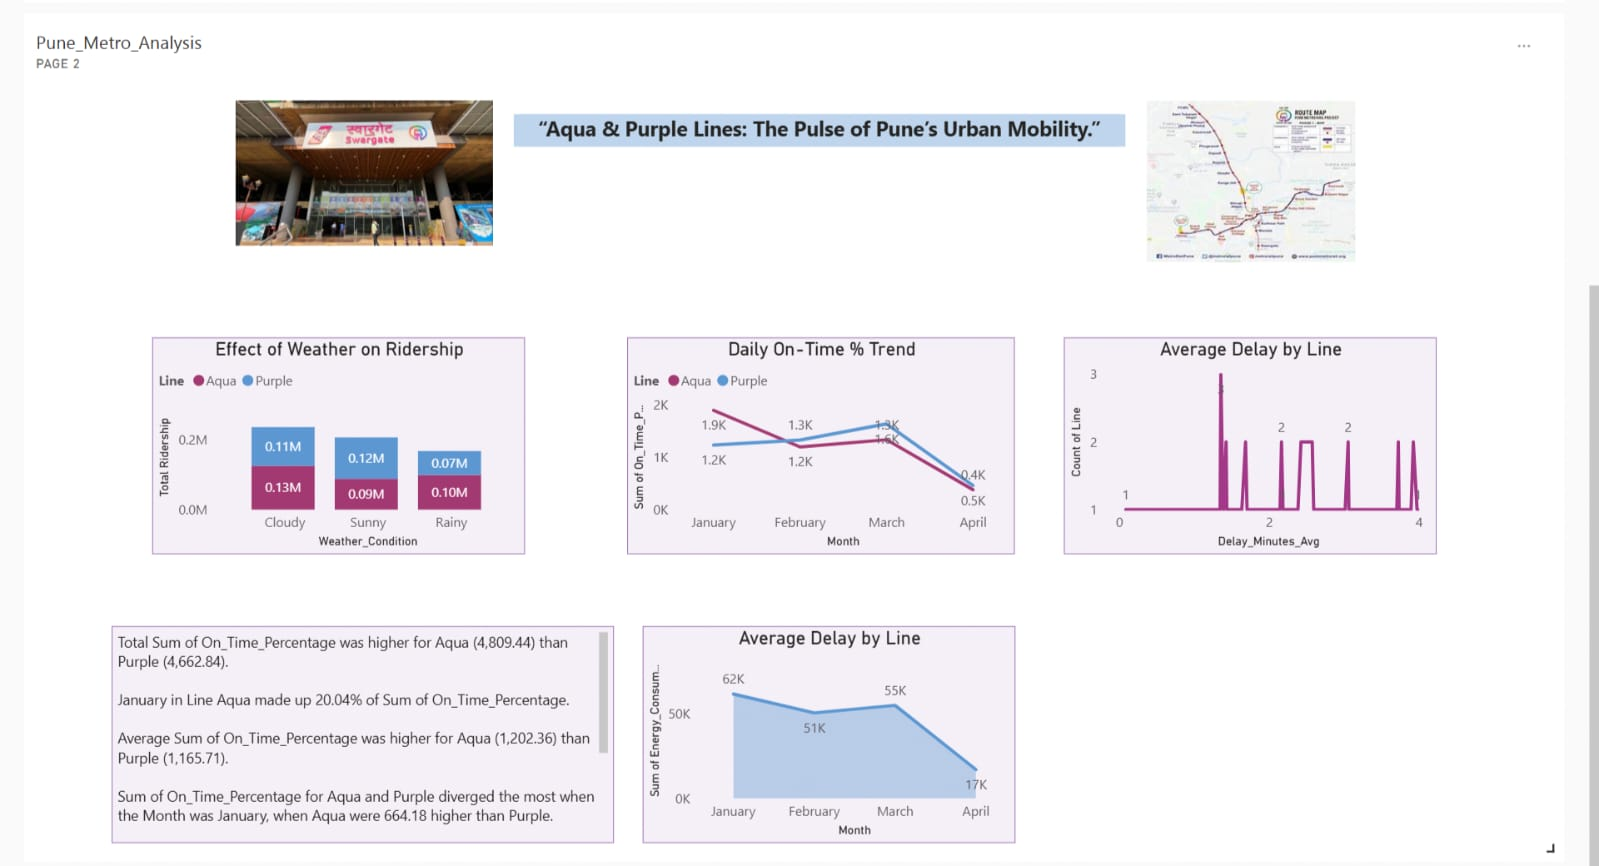

What the dashboard file says about the page in this screenshot:
{"tool":"powerbi","page":{"name":"Page 2","canvas":[1280,720],"ordinal":1},"visuals":[{"type":"columnChart","title":"Effect of Weather on Ridership","fields":{"Series":["Sheet1.Line"],"Category":["Sheet1.Weather_Condition"],"Y":["Sheet1.Total Ridership"]},"box":[53.6,240.8,340.7,198.7],"z":0},{"type":"lineChart","title":"Daily On-Time % Trend","fields":{"Category":["Sheet1.Date.Variation.Date Hierarchy.Month"],"Y":["Sum(Sheet1.On_Time_Percentage)"],"Series":["Sheet1.Line"]},"box":[487.9,240.8,354.3,198.7],"z":1000},{"type":"lineChart","title":"Average Delay by Line","fields":{"Category":["Sheet1.Delay_Minutes_Avg"],"Y":["CountNonNull(Sheet1.Line)"]},"box":[887.4,240.8,340.7,198.7],"z":2000},{"type":"areaChart","title":"Average Delay by Line","fields":{"Category":["Sheet1.Date.Variation.Date Hierarchy.Month"],"Y":["Sum(Sheet1.Energy_Consumption_kWh)"]},"box":[501.5,504.7,340.7,198.7],"z":3000},{"type":"textbox","box":[16.8,504.7,459.5,198.7],"z":4000},{"type":"image","box":[929,20.2,257.5,157.8],"z":5000},{"type":"image","box":[90.2,20.2,313.2,142.4],"z":6000},{"type":"textbox","title":"“Aqua & Purple Lines: The Pulse of Pune’s Urban Mobility.”","box":[384.4,36.8,558.8,54.6],"z":7000}]}

Visuals, with their boxes on the page's 1280x720 design canvas (x1, y1, x2, y2). These are canvas units, not pixel positions in the 1599x866 screenshot, which may show the page scaled, cropped or inside an application window:
"Effect of Weather on Ridership" columnChart: select_region(54, 241, 394, 440)
"Daily On-Time % Trend" lineChart: select_region(488, 241, 842, 440)
"Average Delay by Line" lineChart: select_region(887, 241, 1228, 440)
"Average Delay by Line" areaChart: select_region(502, 505, 842, 703)
textbox: select_region(17, 505, 476, 703)
image: select_region(929, 20, 1186, 178)
image: select_region(90, 20, 403, 163)
"“Aqua & Purple Lines: The Pulse of Pune’s Urban Mobility.”" textbox: select_region(384, 37, 943, 91)
